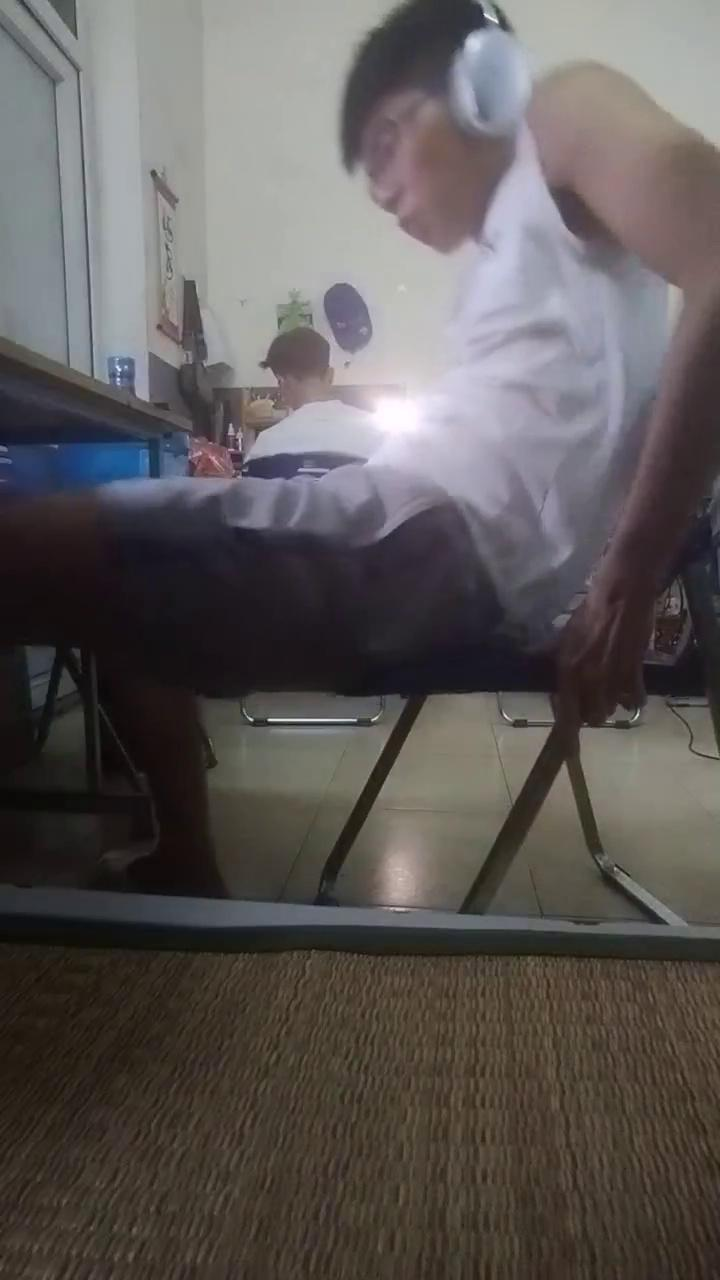BadPosture: (0, 0, 719, 895)
